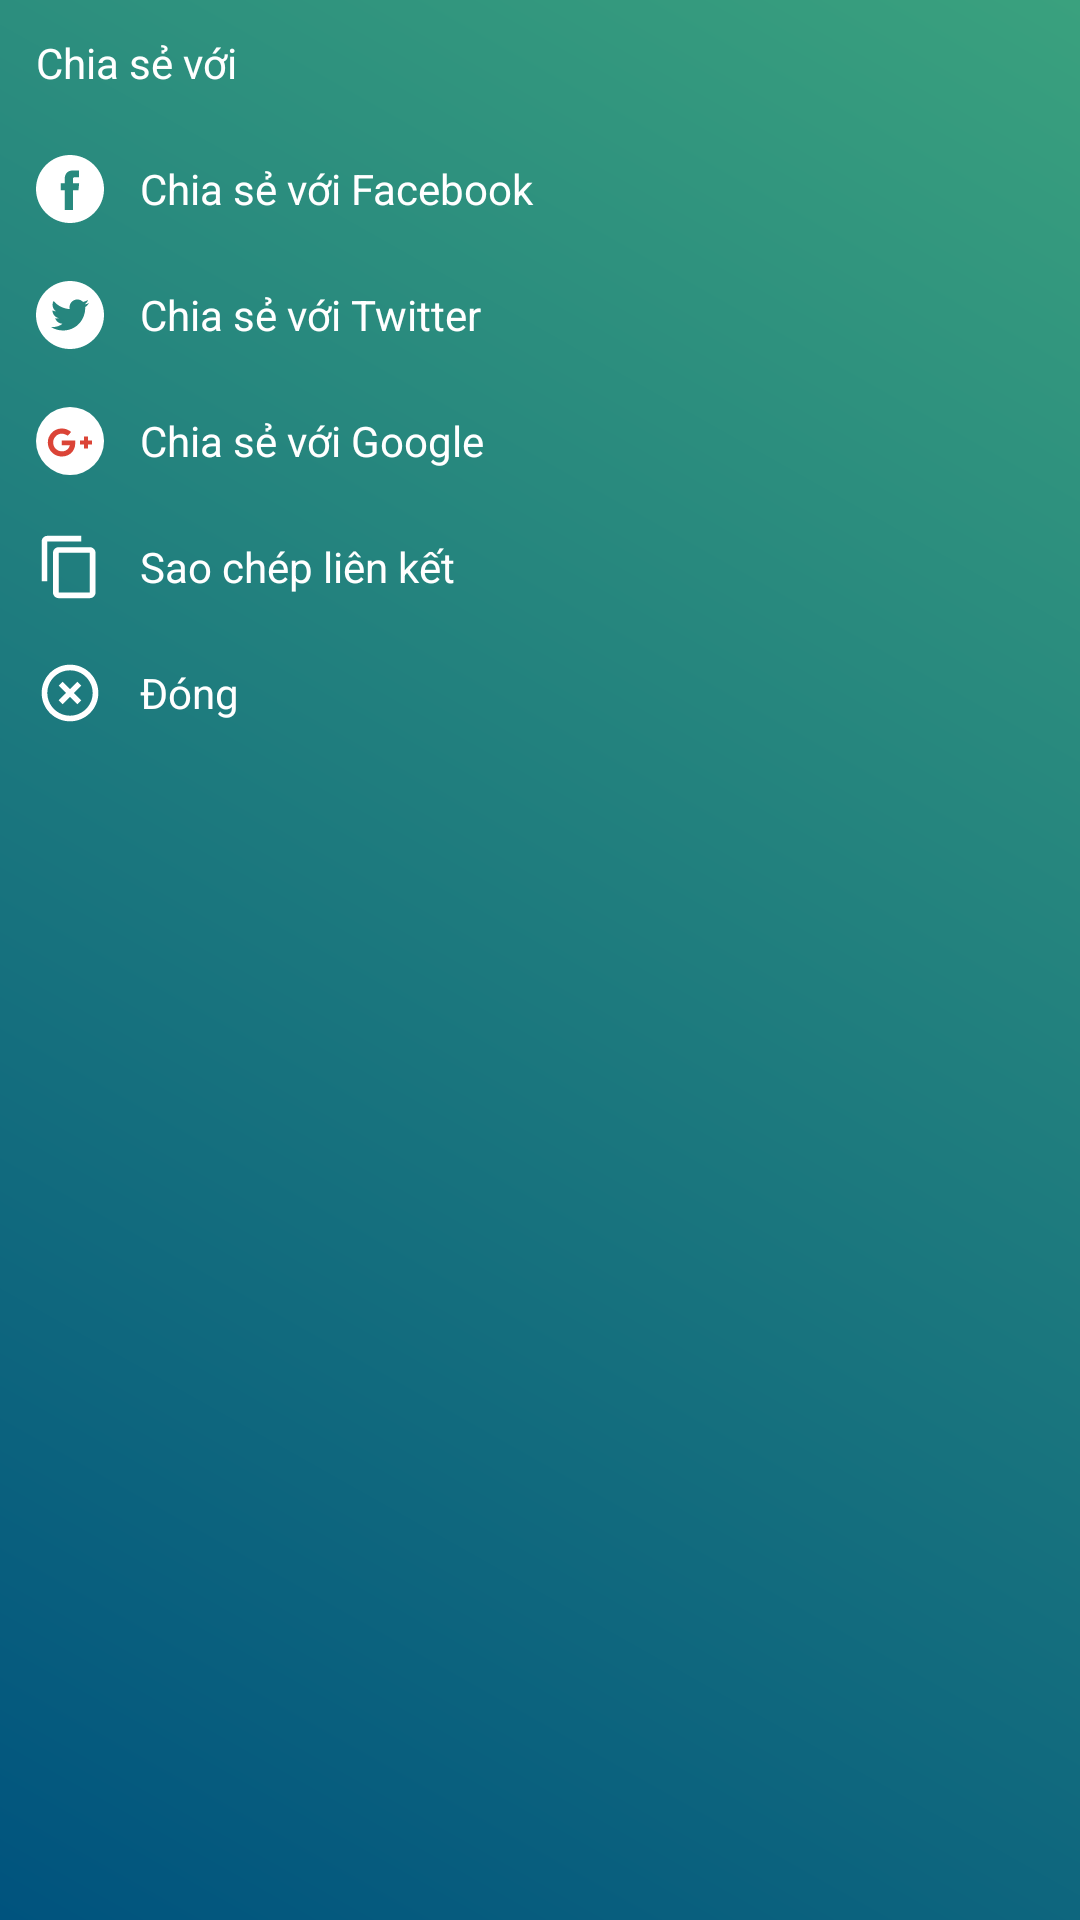

Screen size 1080*1920. Icon name, then its center in pixels as (x=x, y=y):
clearwhite: (x=70, y=693)
copywhite: (x=68, y=567)
